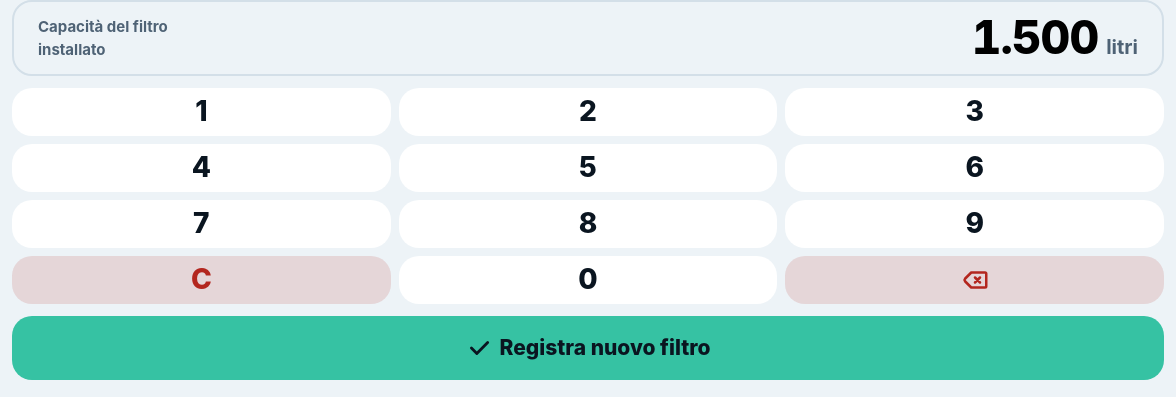
Scenario: KeyPadPanel › types a new value with the large keys
Click the button named "Azzera".
click(201, 280)  # box [12,256,391,304]
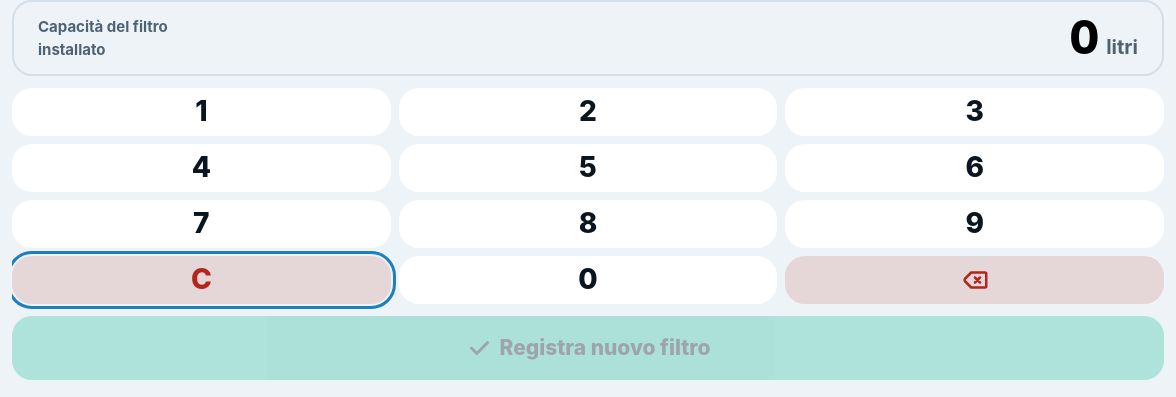
Click the button "6".
click(975, 168)  # box [785,144,1164,192]
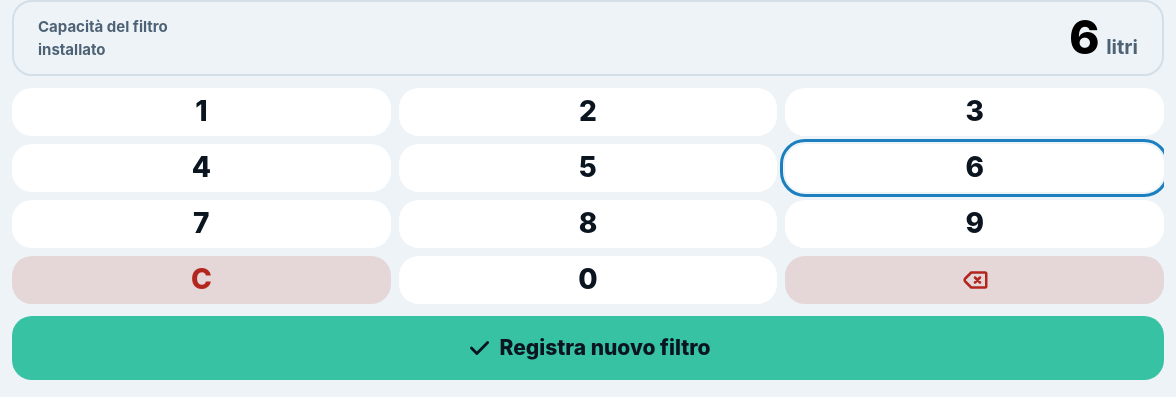
Click the button "0".
click(588, 280)  # box [399,256,777,304]
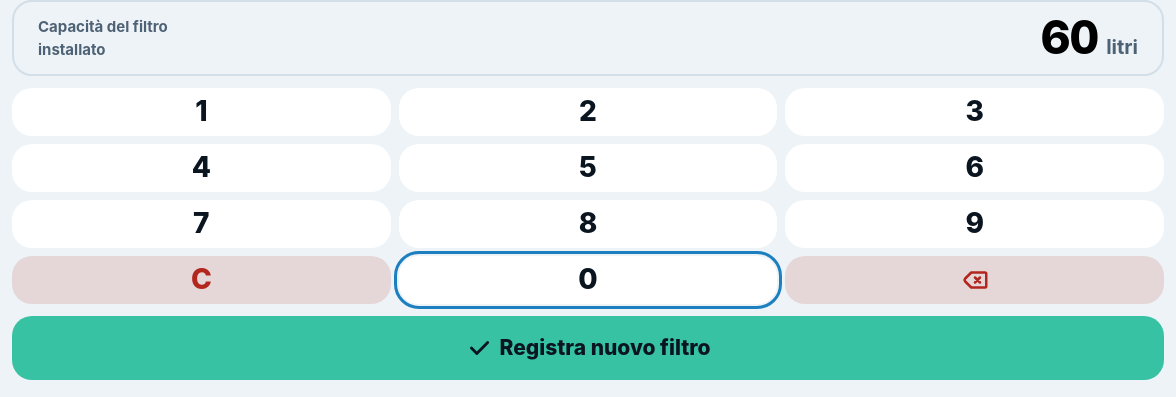
Click the button "0".
click(588, 280)  # box [399,256,777,304]
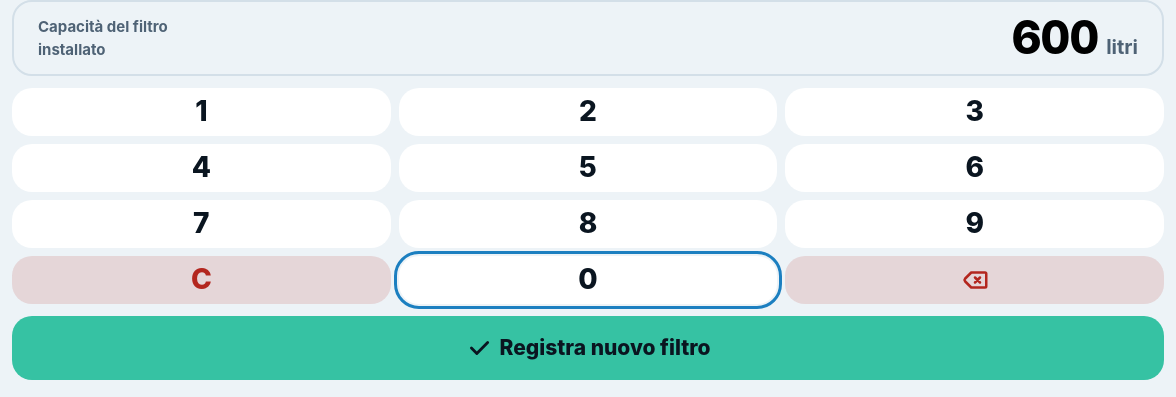
expect the message named "Valore inserito" reads "600 litri": met, box [1012,2,1138,74]
